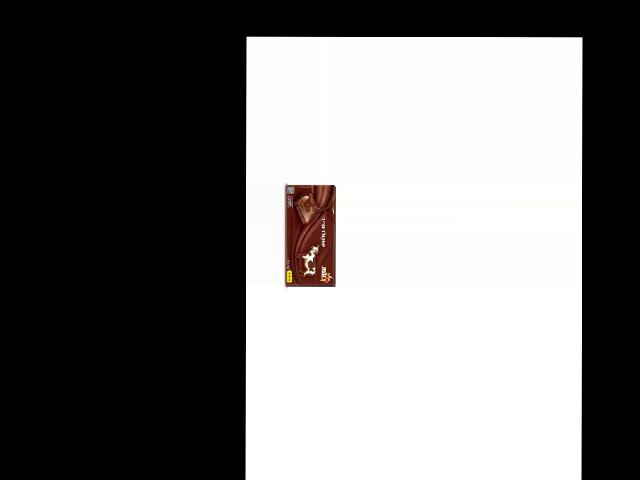chocolate: (284, 186, 336, 289)
